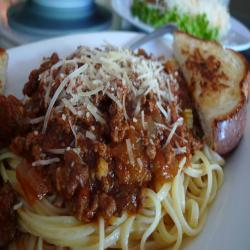bolonese_pasta: (17, 46, 204, 247)
bread: (169, 28, 250, 156)
salad: (135, 6, 221, 39)
